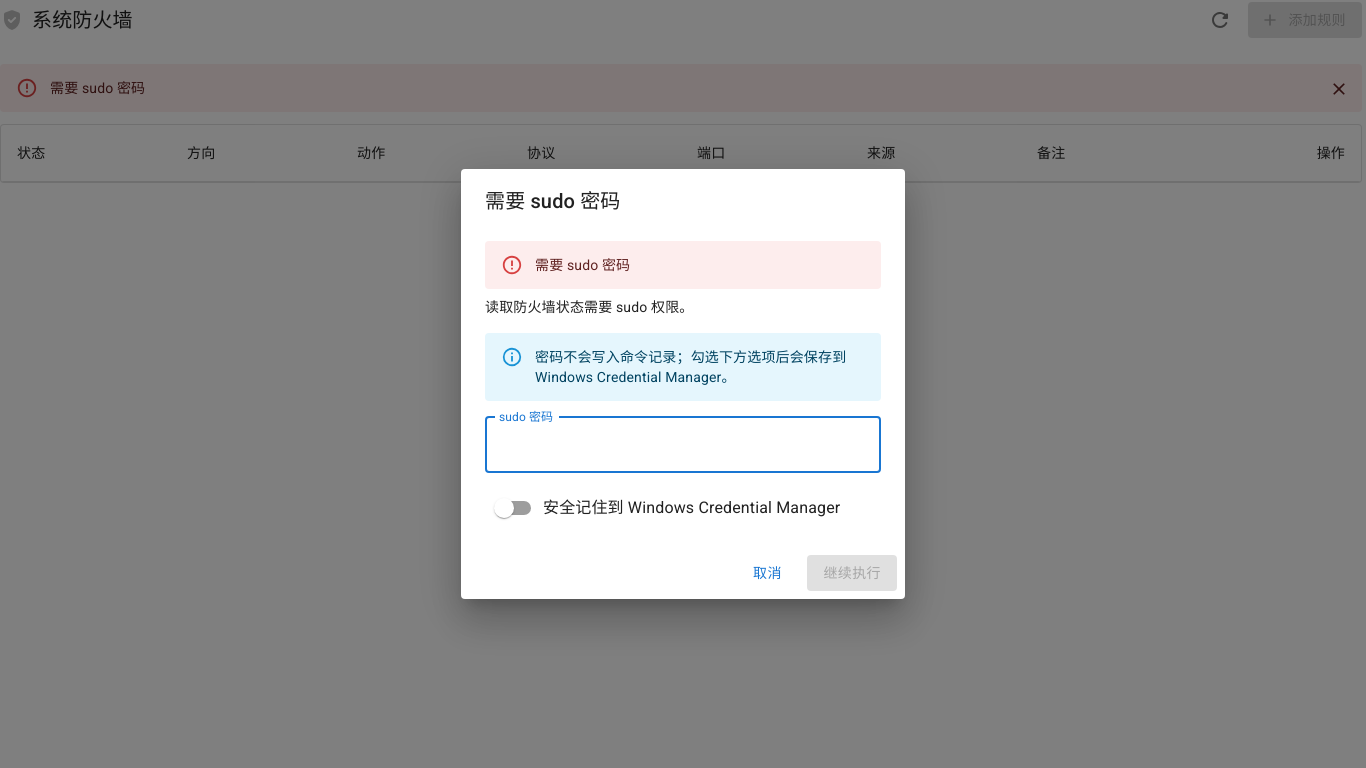
Test case: sudo authentication across firewall operations › shows an incorrect sudo password and waits for user action without an automatic retry loop
Expected: the text "读取防火墙状态需要 sudo 权限。" is shown, [485,299,694,315]
In the password field labelled "sudo 密码": (683, 445) [485,417,881,473], type "wrong"
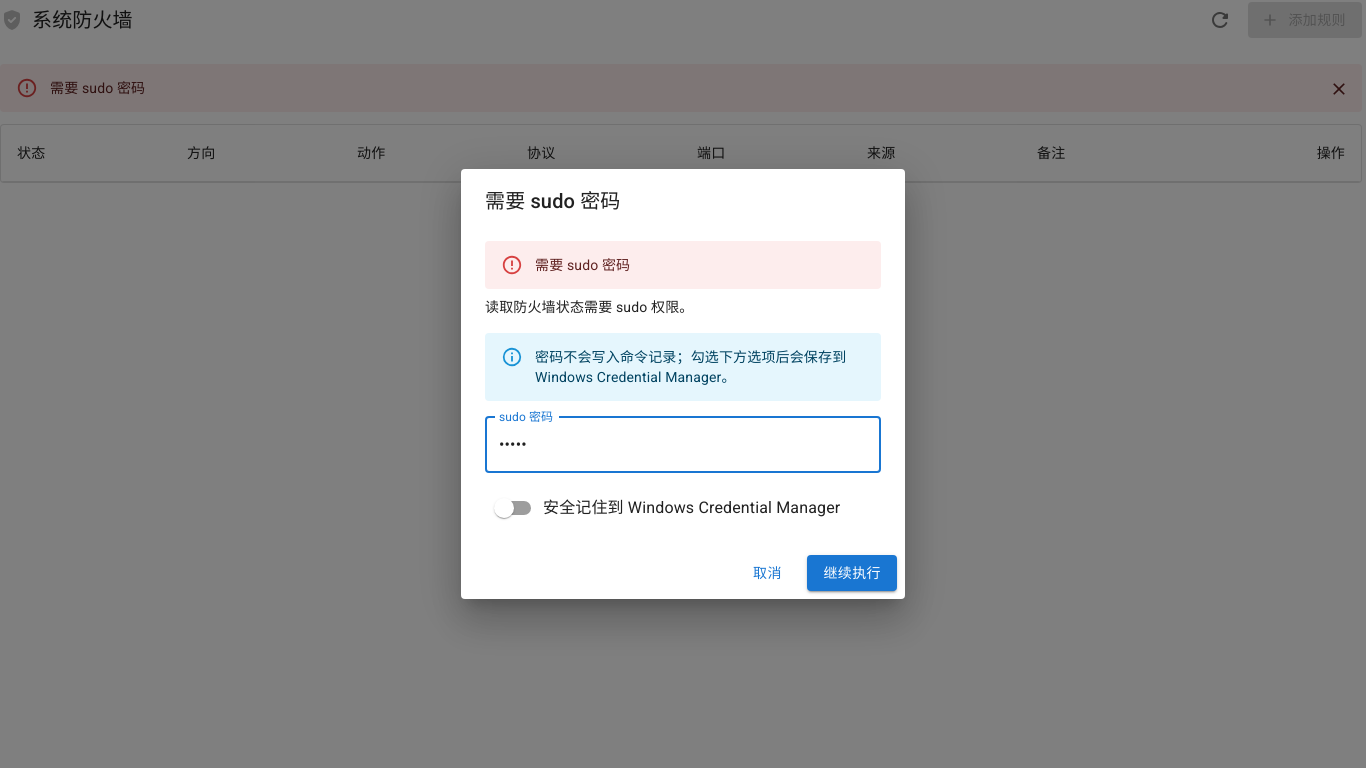
Click the button "继续执行": (852, 573) [807,555,897,591]
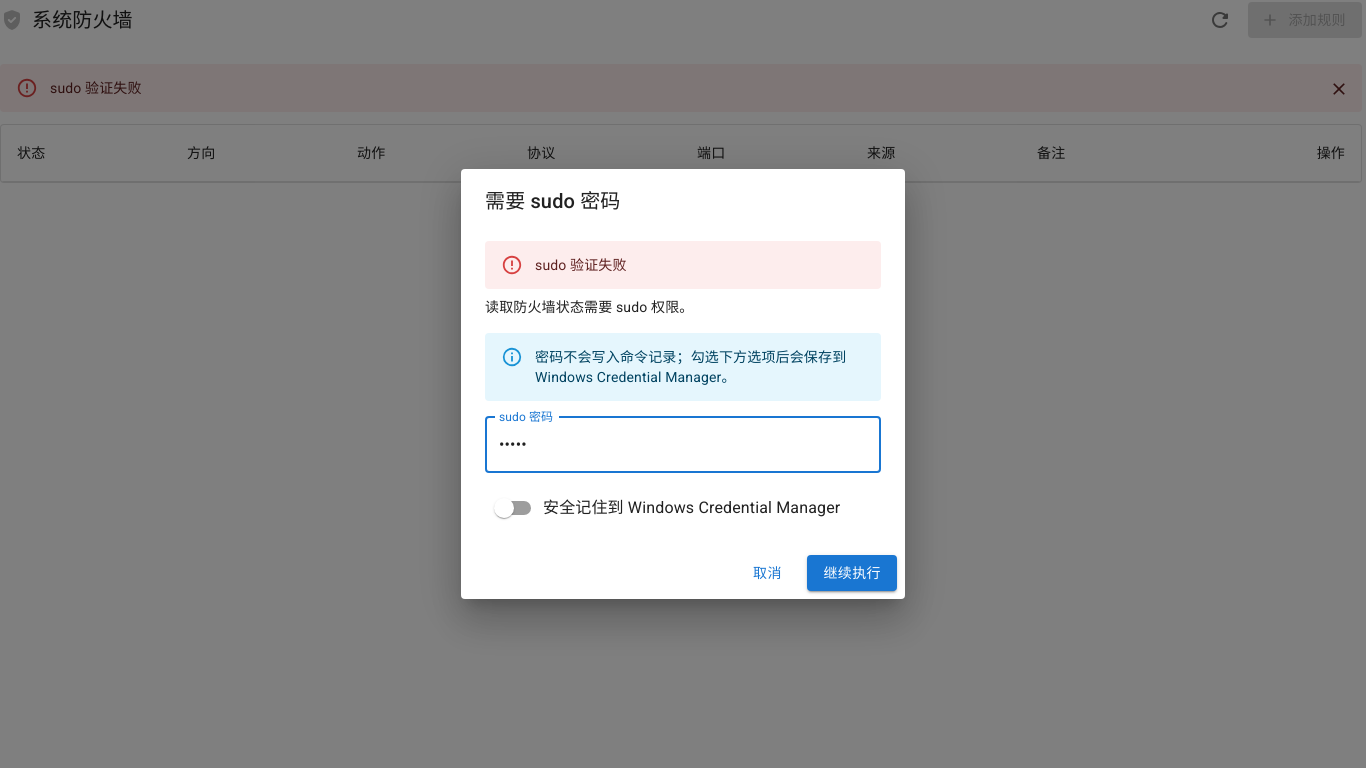
Expected: the button "继续执行" is enabled, [807,555,897,591]
Expected: the text "sudo 验证失败" is shown, [535,257,627,273]
Click the button "取消": (767, 573) [735,555,799,591]
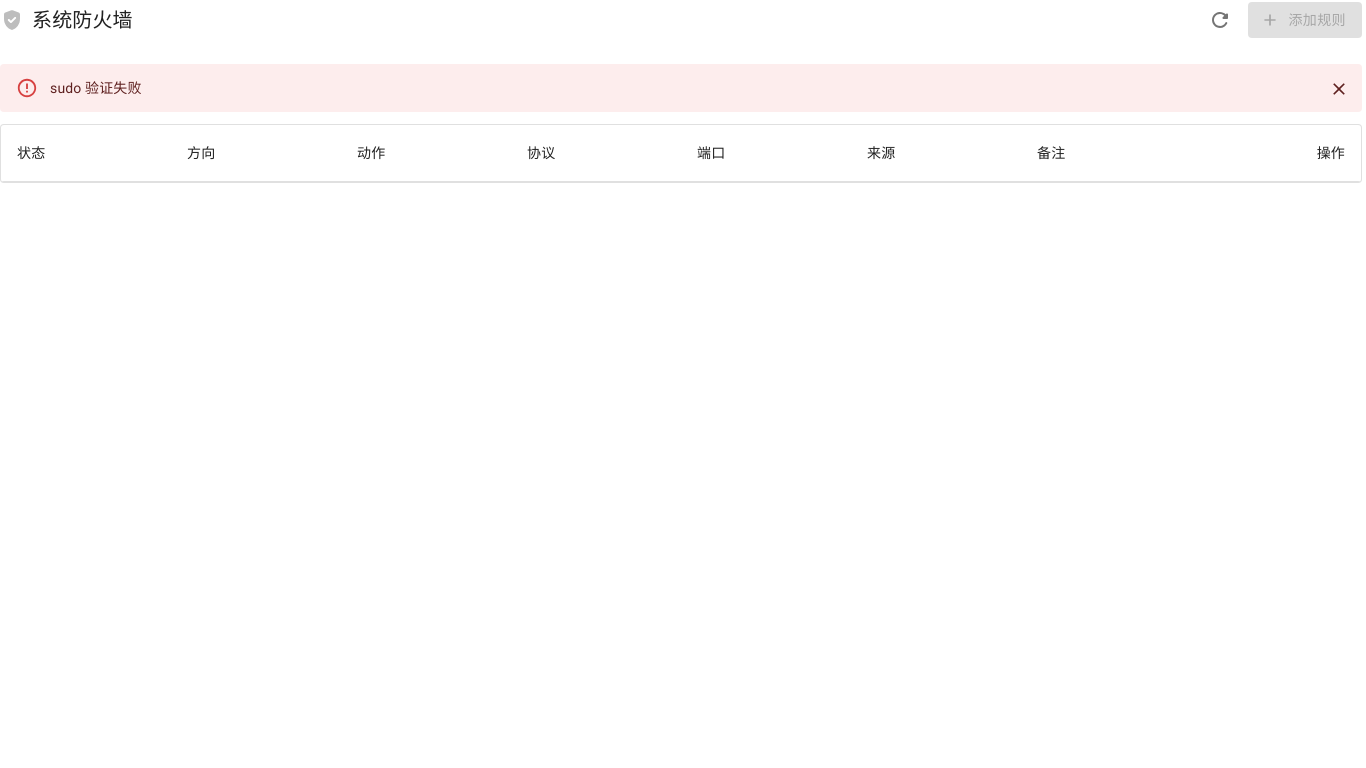
Expected: the dialog is gone
